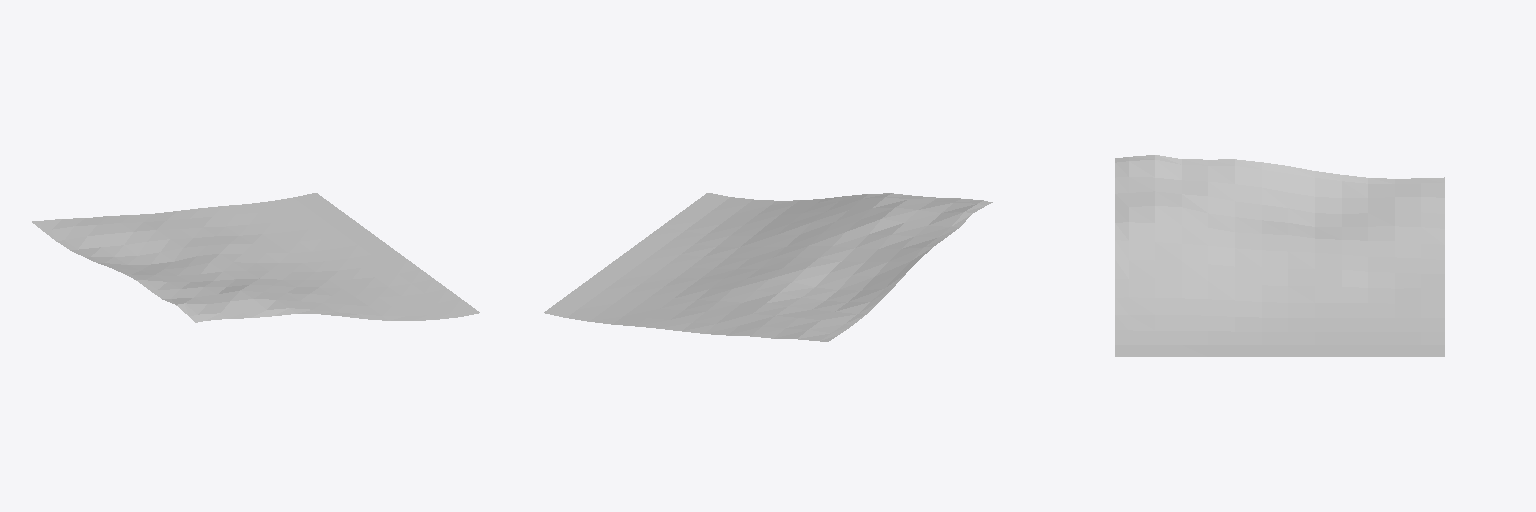
The model's file is Landscape.069.obj.
The picture shows the model from 3 angles: view 1: azimuth 30°, elevation 25°; view 2: azimuth 150°, elevation 25°; view 3: azimuth 270°, elevation 25°; orthographic projection.
Parts seen in each view (by area): view 1: Landscape.069; view 2: Landscape.069; view 3: Landscape.069.
Boxes of the visible parts, box(x1,y1,x2,y2) form: Landscape.069: box(32, 193, 479, 322); Landscape.069: box(544, 193, 992, 341); Landscape.069: box(1115, 155, 1444, 356).
Size of the model in its own units: 32 by 6.77 by 32.